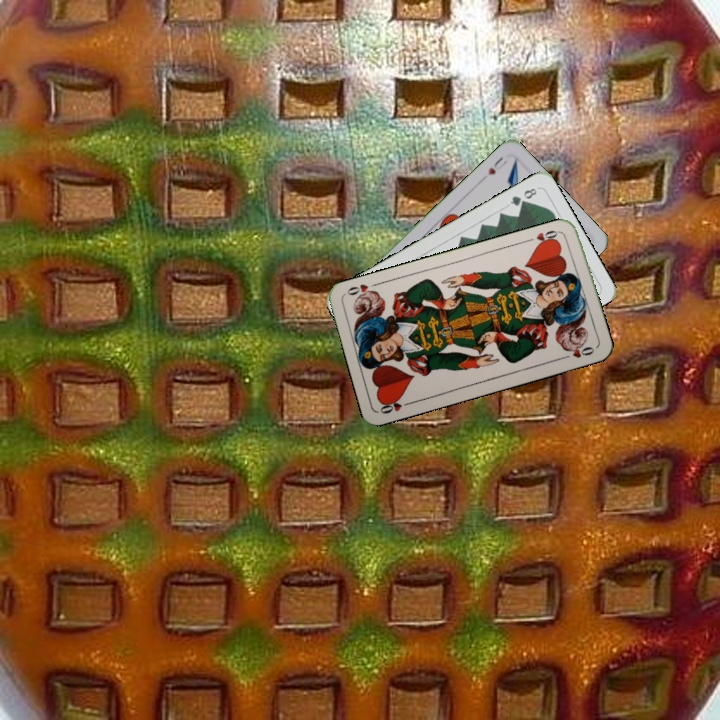G8: (506, 184, 540, 209)
HO: (523, 226, 563, 249), (376, 394, 416, 416)
HU: (484, 153, 510, 178)
